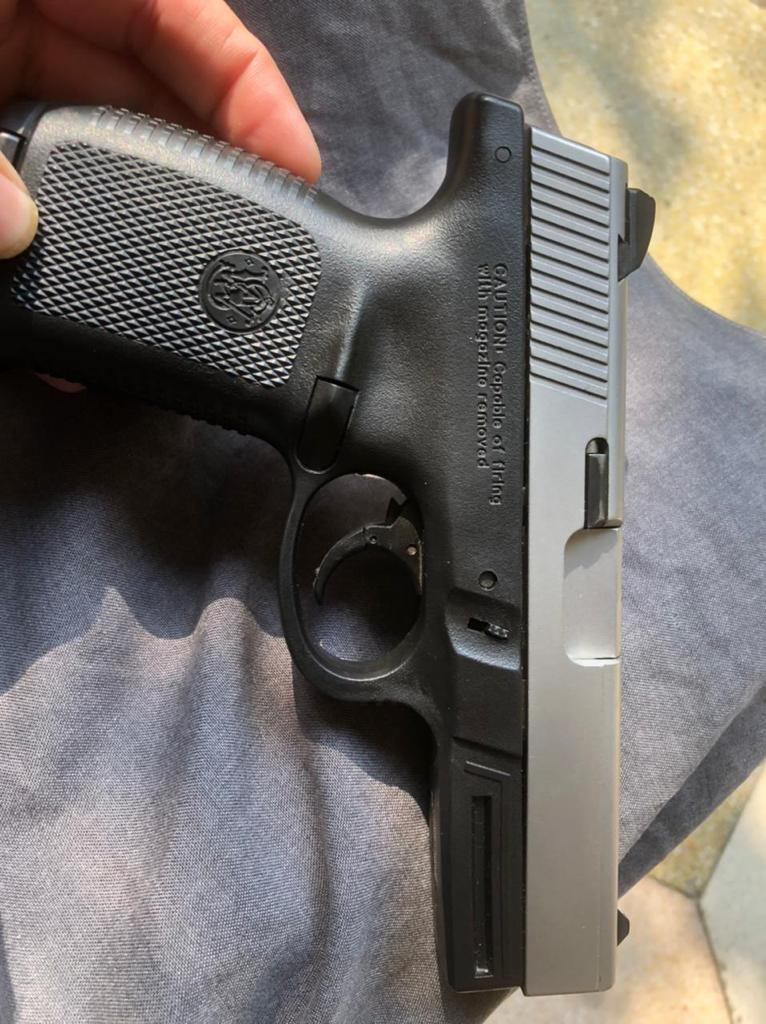weapon: (0, 92, 656, 997)
